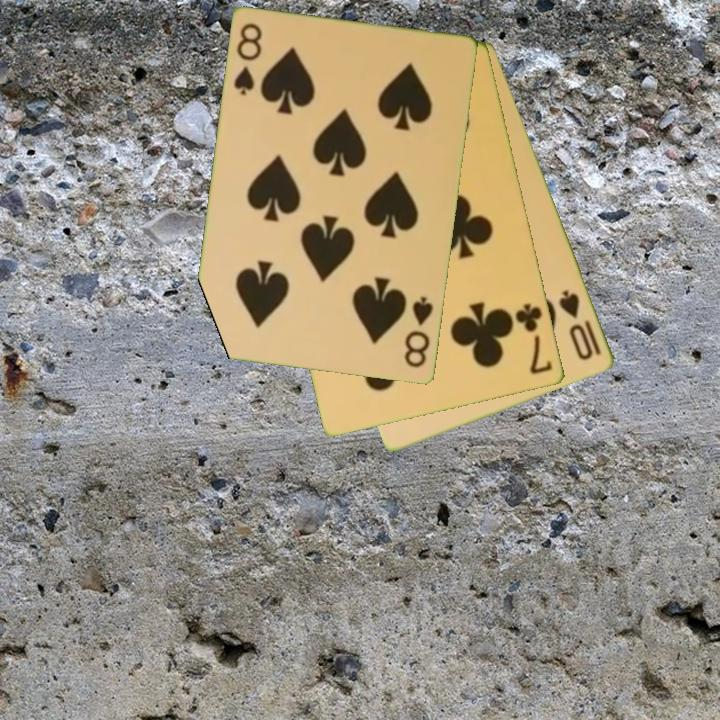10s: (556, 286, 604, 364)
7c: (512, 300, 556, 378)
8s: (230, 20, 266, 99), (401, 293, 436, 371)
